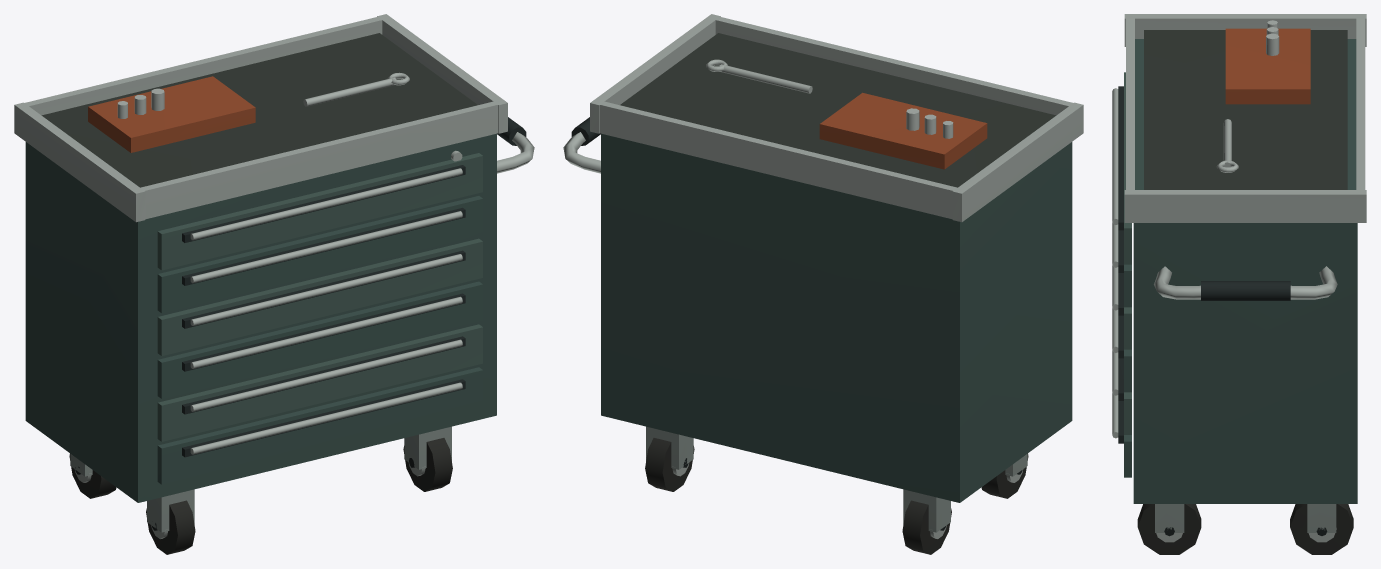
The model's file is tool-trolley-course.glb.
The picture shows the model from 3 angles, left to right: view 1: azimuth 30°, elevation 25°; view 2: azimuth 150°, elevation 25°; view 3: azimuth 270°, elevation 25°; orthographic projection.
Visible parts, largest first — view 1: Welded cabinet carcass.001, Rubber-lined recessed worktop.001, Rolled worktop edge.007, Separated drawer face.006, Separated drawer face.008, Separated drawer face.010, Separated drawer face.007, Separated drawer face.009, Separated drawer face.011, Tool tray.001, Rolled worktop edge.006, Rolled worktop edge.004 (+20 smaller); view 2: Welded cabinet carcass.001, Rubber-lined recessed worktop.001, Rolled worktop edge.006, Tool tray.001, Rolled worktop edge.007, Rolled worktop edge.004, Rolled worktop edge.005, Swivel caster rubber tread.006, Swivel caster rubber tread.004, Caster swivel fork.004, Caster swivel fork.006, Ratchet handle.001 (+2 smaller); view 3: Welded cabinet carcass.001, Rubber-lined recessed worktop.001, Rolled worktop edge.005, Tool tray.001, Rolled worktop edge.004, Swivel caster rubber tread.006, Rubber trolley handle grip.001, Swivel caster rubber tread.007, Rolled worktop edge.006, Bent tubular pushing handle.001, Rolled worktop edge.007, Drawer rolled aluminium pull.011 (+10 smaller).
Part boxes in pixels (left/top/right/bottom): Welded cabinet carcass.001: left=25, top=133, right=496, bottom=502; Rubber-lined recessed worktop.001: left=41, top=33, right=477, bottom=187; Rolled worktop edge.007: left=134, top=100, right=504, bottom=219; Separated drawer face.006: left=157, top=367, right=482, bottom=484; Separated drawer face.008: left=157, top=281, right=482, bottom=398; Separated drawer face.010: left=157, top=196, right=482, bottom=313; Separated drawer face.007: left=157, top=324, right=482, bottom=441; Separated drawer face.009: left=157, top=238, right=482, bottom=355; Separated drawer face.011: left=157, top=153, right=482, bottom=270; Tool tray.001: left=88, top=76, right=255, bottom=152; Rolled worktop edge.006: left=18, top=15, right=386, bottom=115; Rolled worktop edge.004: left=14, top=102, right=145, bottom=222; Welded cabinet carcass.001: left=601, top=133, right=1072, bottom=502; Rubber-lined recessed worktop.001: left=620, top=33, right=1056, bottom=187; Rolled worktop edge.006: left=594, top=101, right=963, bottom=219; Tool tray.001: left=819, top=92, right=987, bottom=169; Rolled worktop edge.007: left=709, top=15, right=1079, bottom=115; Rolled worktop edge.004: left=952, top=102, right=1083, bottom=222; Rolled worktop edge.005: left=590, top=14, right=720, bottom=133; Swivel caster rubber tread.006: left=645, top=438, right=694, bottom=491; Swivel caster rubber tread.004: left=902, top=500, right=951, bottom=554; Caster swivel fork.004: left=903, top=489, right=950, bottom=532; Caster swivel fork.006: left=646, top=426, right=693, bottom=469; Ratchet handle.001: left=720, top=64, right=812, bottom=93; Welded cabinet carcass.001: left=1133, top=39, right=1357, bottom=503; Rubber-lined recessed worktop.001: left=1144, top=30, right=1347, bottom=189; Rolled worktop edge.005: left=1124, top=190, right=1366, bottom=222; Tool tray.001: left=1225, top=28, right=1310, bottom=104; Rolled worktop edge.004: left=1124, top=14, right=1366, bottom=46; Swivel caster rubber tread.006: left=1290, top=504, right=1353, bottom=554; Rubber trolley handle grip.001: left=1201, top=281, right=1290, bottom=300; Swivel caster rubber tread.007: left=1137, top=504, right=1201, bottom=554; Rolled worktop edge.006: left=1356, top=15, right=1365, bottom=193; Bent tubular pushing handle.001: left=1154, top=266, right=1337, bottom=299; Rolled worktop edge.007: left=1126, top=16, right=1134, bottom=192; Drawer rolled aluminium pull.011: left=1112, top=88, right=1118, bottom=224.
Bounding box in the file's own units: 1.1 × 1.01 × 0.568.
